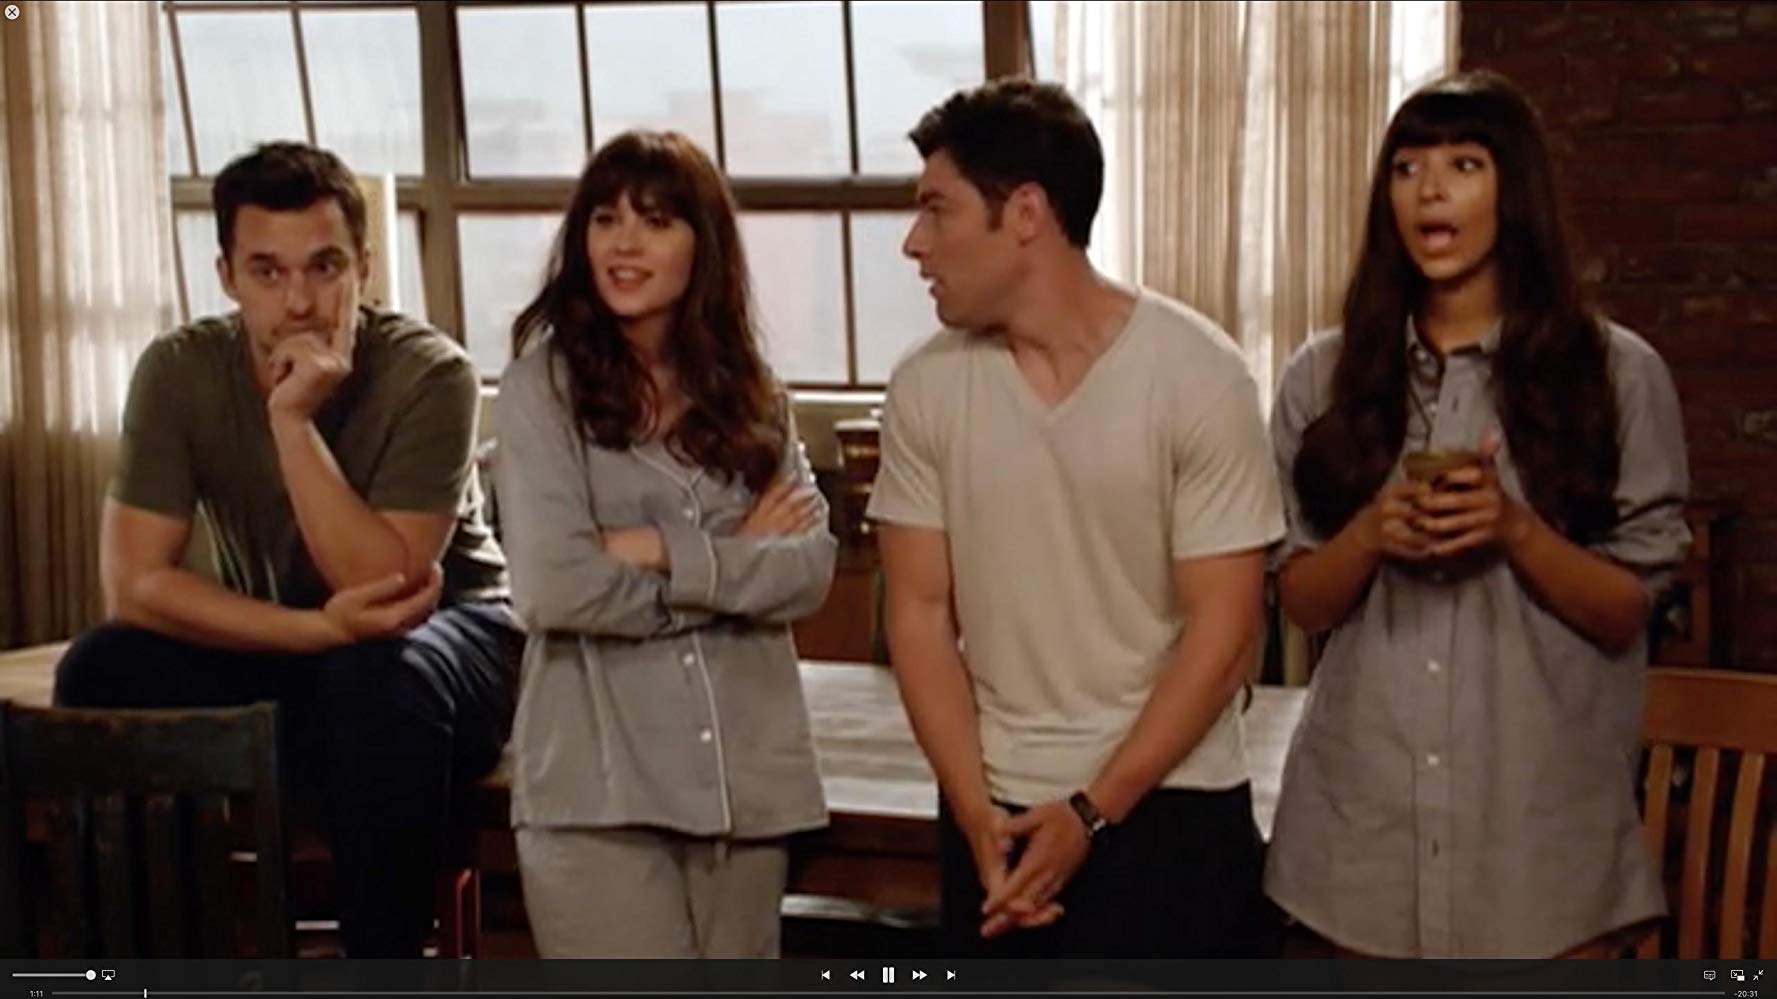person: (1270, 62, 1698, 946), (898, 90, 1274, 950), (120, 145, 491, 941), (491, 148, 835, 959)
